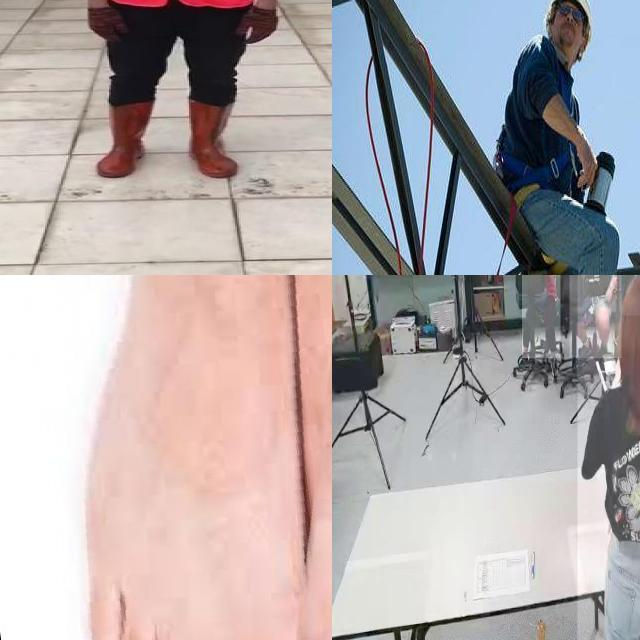Barefoots: (20, 275, 332, 640), (238, 275, 332, 640)
boots: (96, 103, 154, 178), (190, 99, 240, 180)
hand_noglove: (604, 287, 612, 304)
head_nohelmet: (620, 275, 640, 316)
person: (75, 0, 296, 197), (577, 275, 640, 640), (569, 275, 621, 358), (522, 275, 561, 359)
